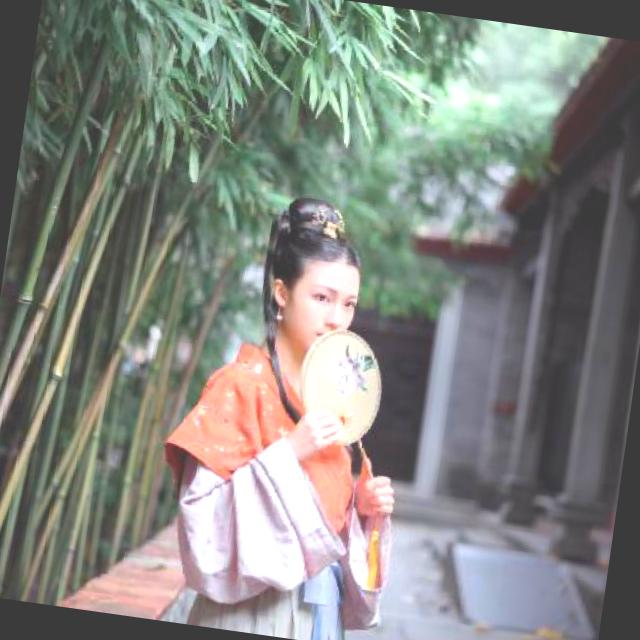Person: (121, 172, 468, 640)
